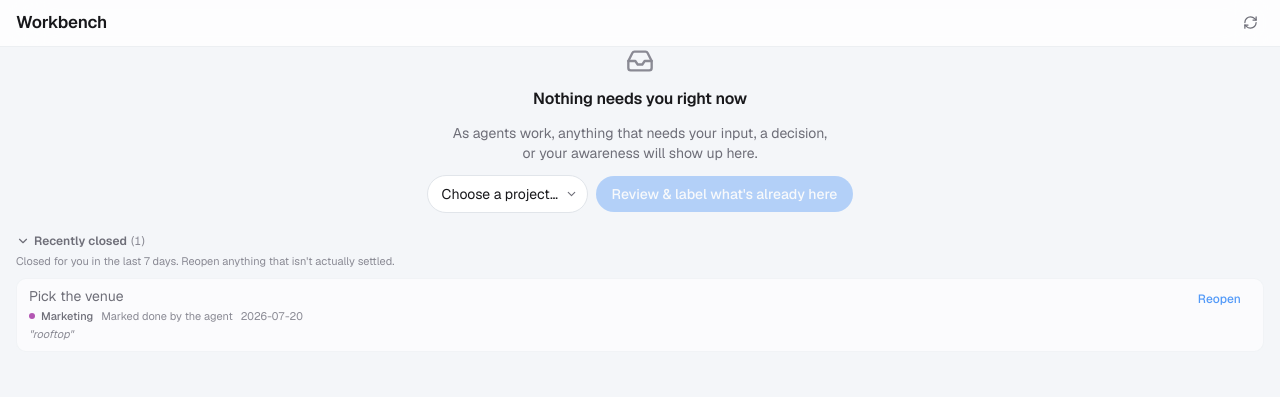
Test case: WorkbenchPage — recently closed (spec 089) › surfaces a failed reopen instead of failing silently
The image size is (1280, 397).
What coordinates should you click on to do the following:
click the button with test id "workbench-closed-reopen"
I would click on:
 (1219, 298)
Its box is [1188,286,1251,310].
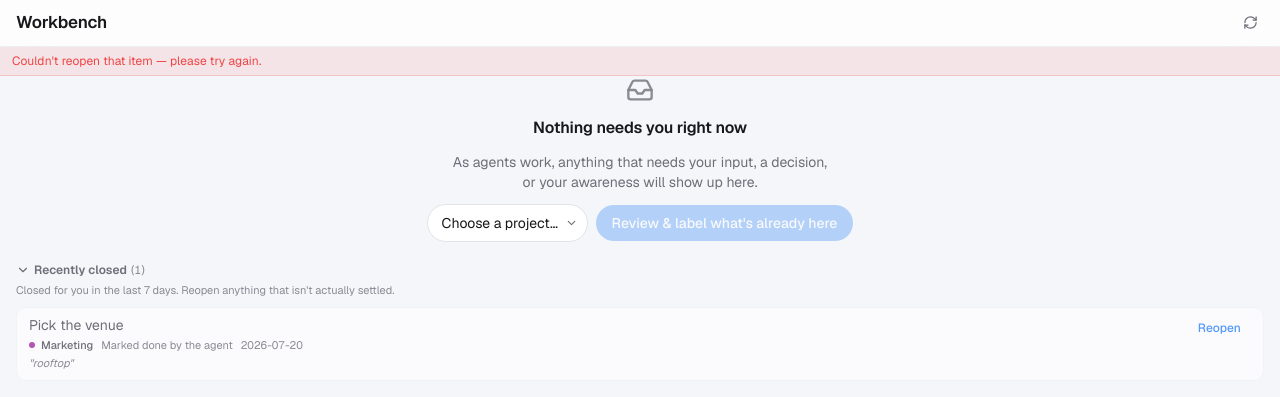
expect the list item with test id "workbench-closed-row" is shown: met, box [16,306,1264,381]
expect the text "Couldn't reopen that item — please try again." is shown: met, box [0,47,1279,76]
